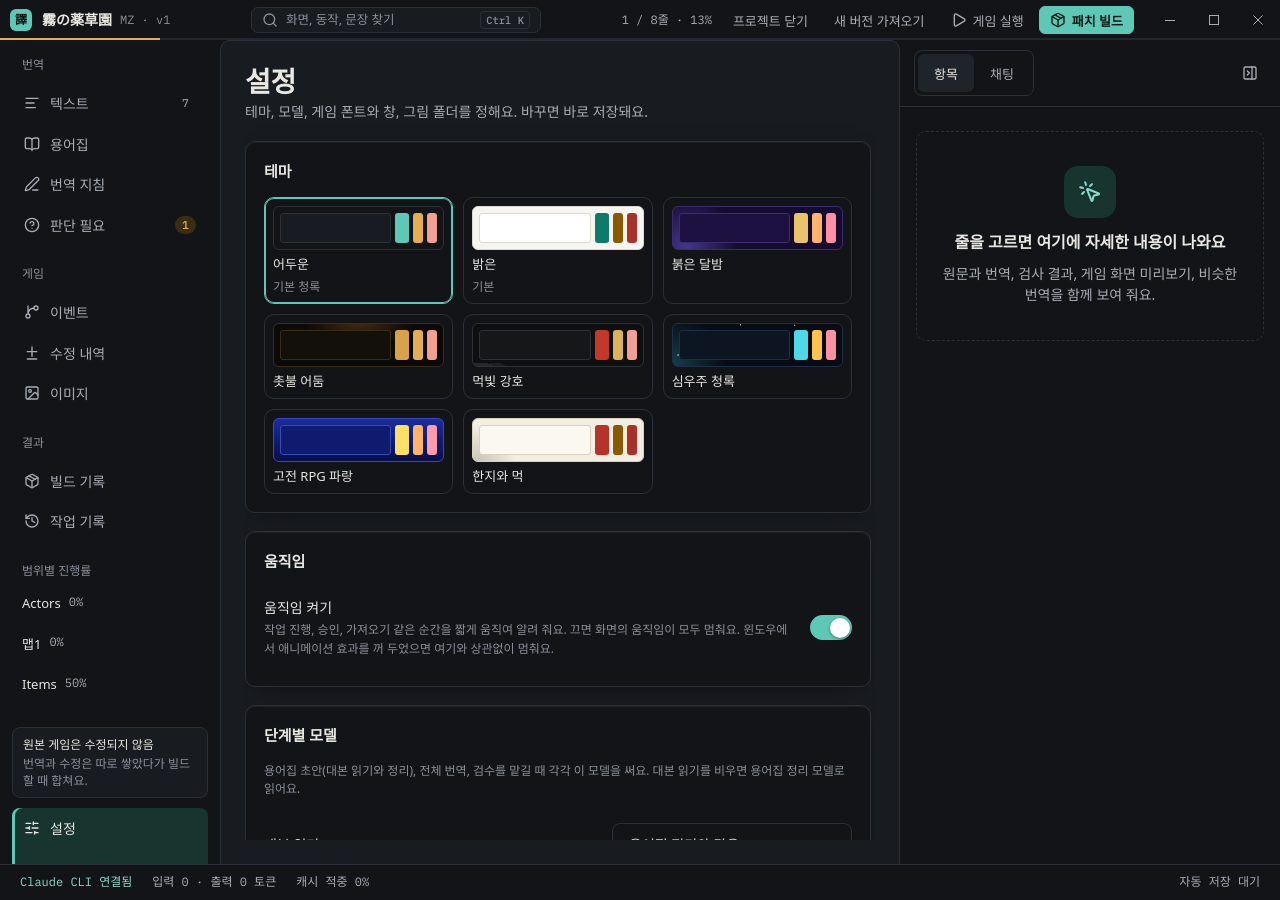
Test: 테마는 견본 카드에서 고른다
Later steps or results of the test are not shown.
Expected: the text "霧の薬草園" is shown, [42, 9, 112, 31]
Expected: the heading "설정" is shown, [245, 65, 296, 97]
Click the radio button labelled "붉은 달밤".
click(757, 251)  # box [663, 197, 852, 304]
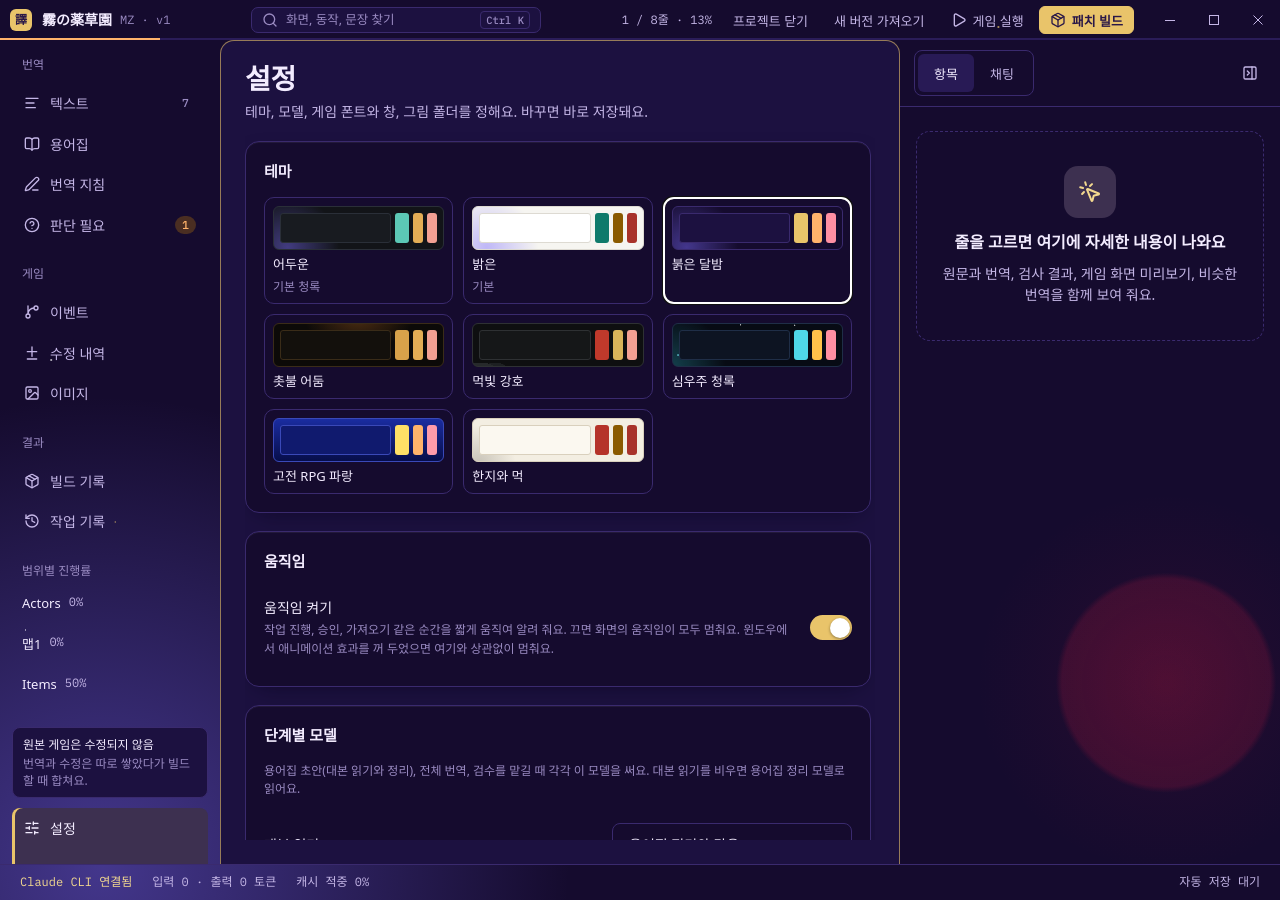
Now the radio button labelled "붉은 달밤" is checked, box [663, 197, 852, 304]
